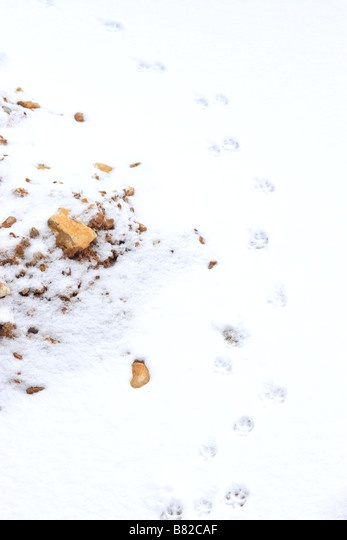fox: (209, 319, 257, 352), (221, 480, 252, 510)
